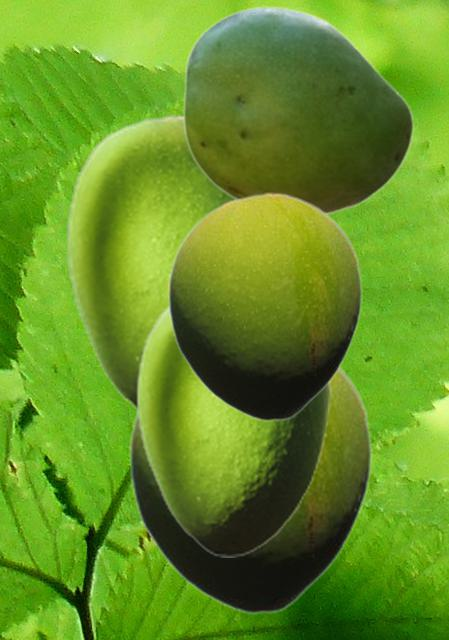green_mango: (128, 366, 372, 614), (135, 302, 330, 556), (65, 114, 230, 412), (182, 5, 413, 216), (167, 192, 362, 421)
